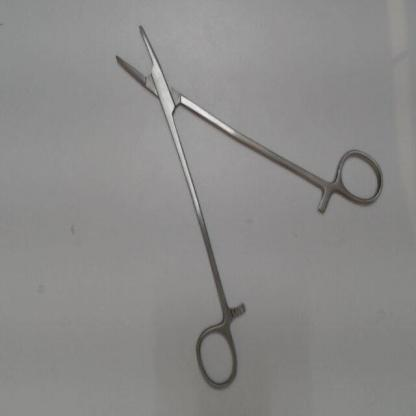8 Mayo Needle Holder: (92, 8, 388, 399)
